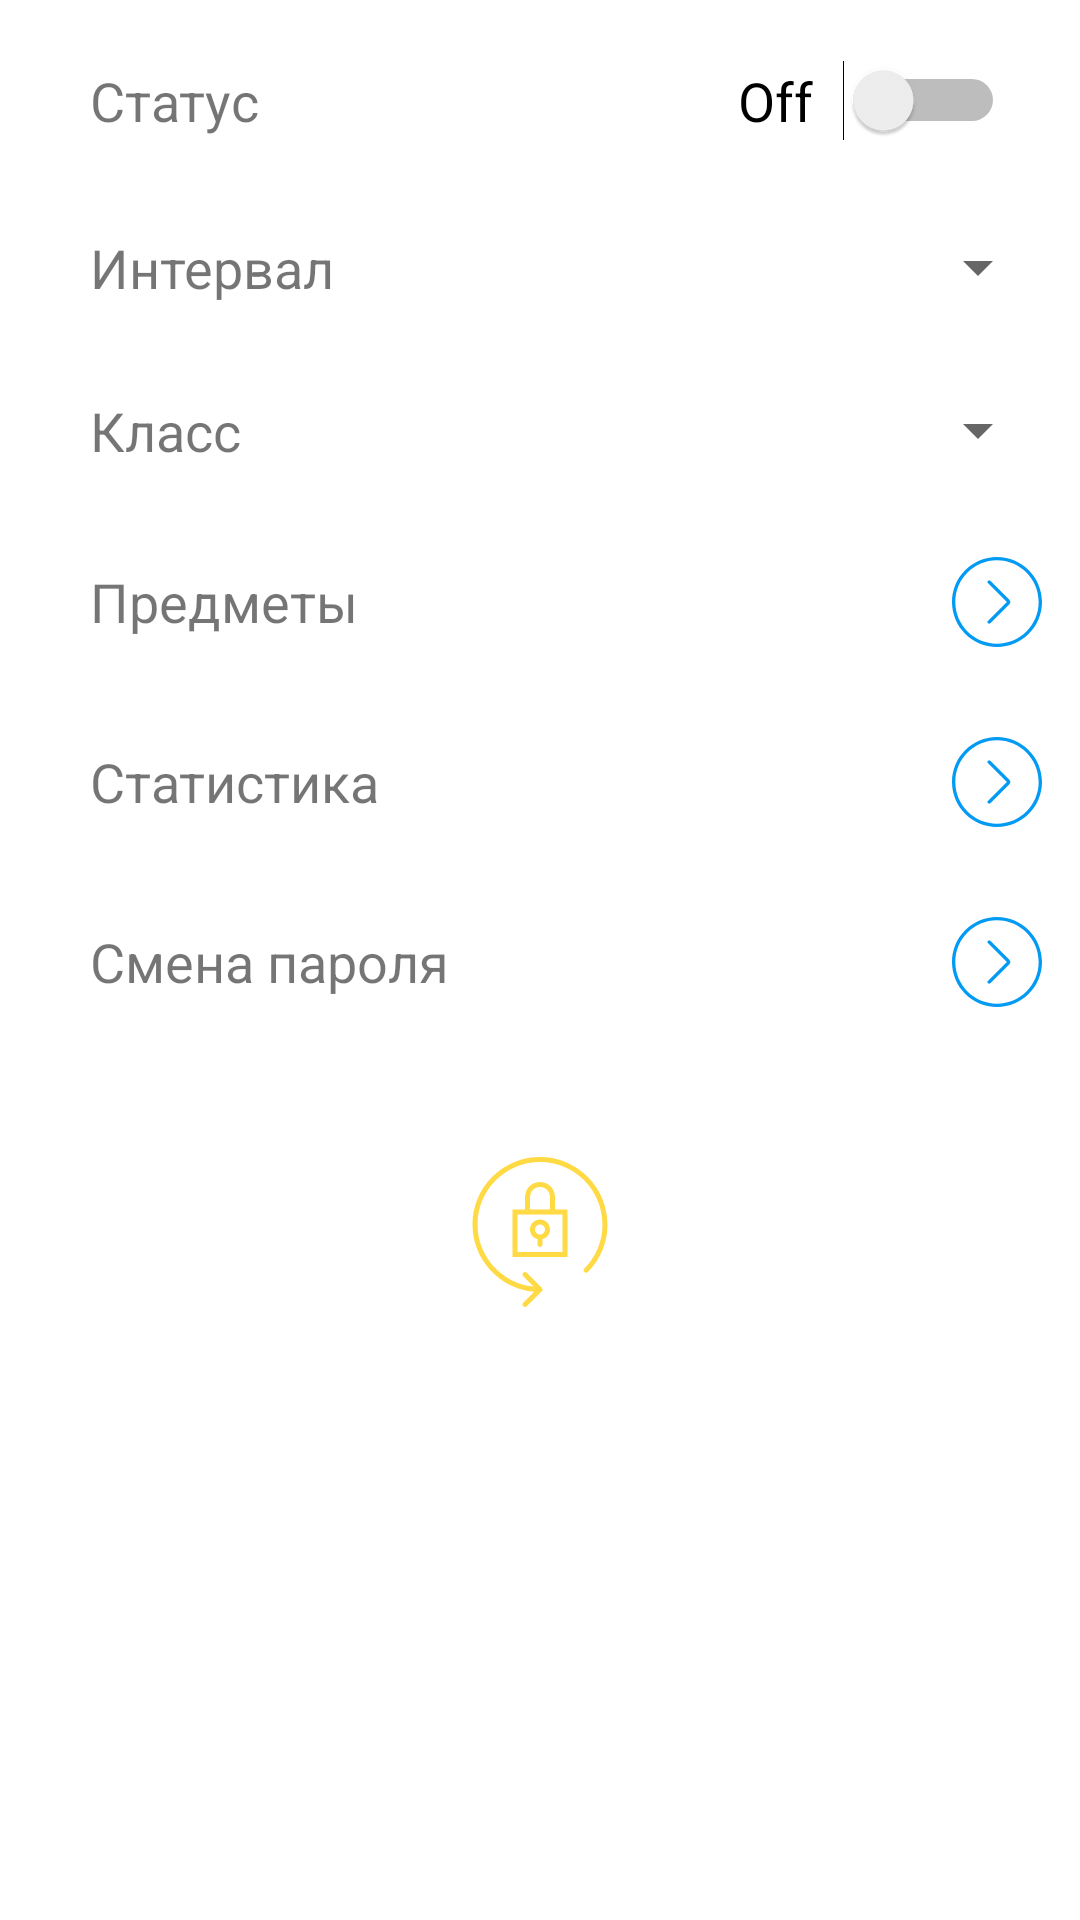

Point at icon controls on the screen. Image size 1080*1920, points as point (x, y).
lock: point (540, 1232)
right arrow: point (997, 602), point (997, 782), point (997, 962)
